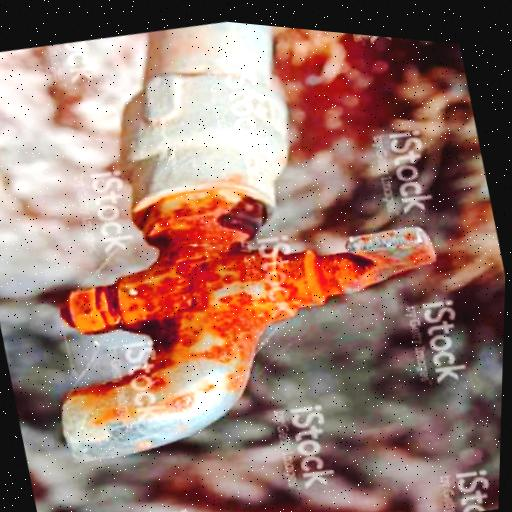corrosion: (41, 127, 461, 443)
